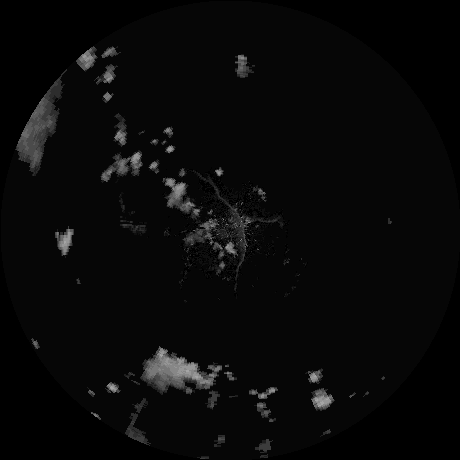frontgust: (211, 182, 243, 220), (236, 227, 249, 276)
